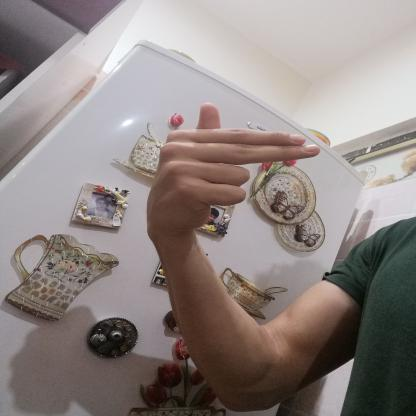GHAYN: (136, 94, 334, 245)
